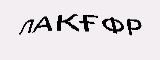В: (86, 25, 101, 49)
Т: (120, 20, 133, 39)
Ш: (102, 23, 121, 45)
Щ: (27, 27, 62, 51)
Я: (64, 26, 86, 55)
